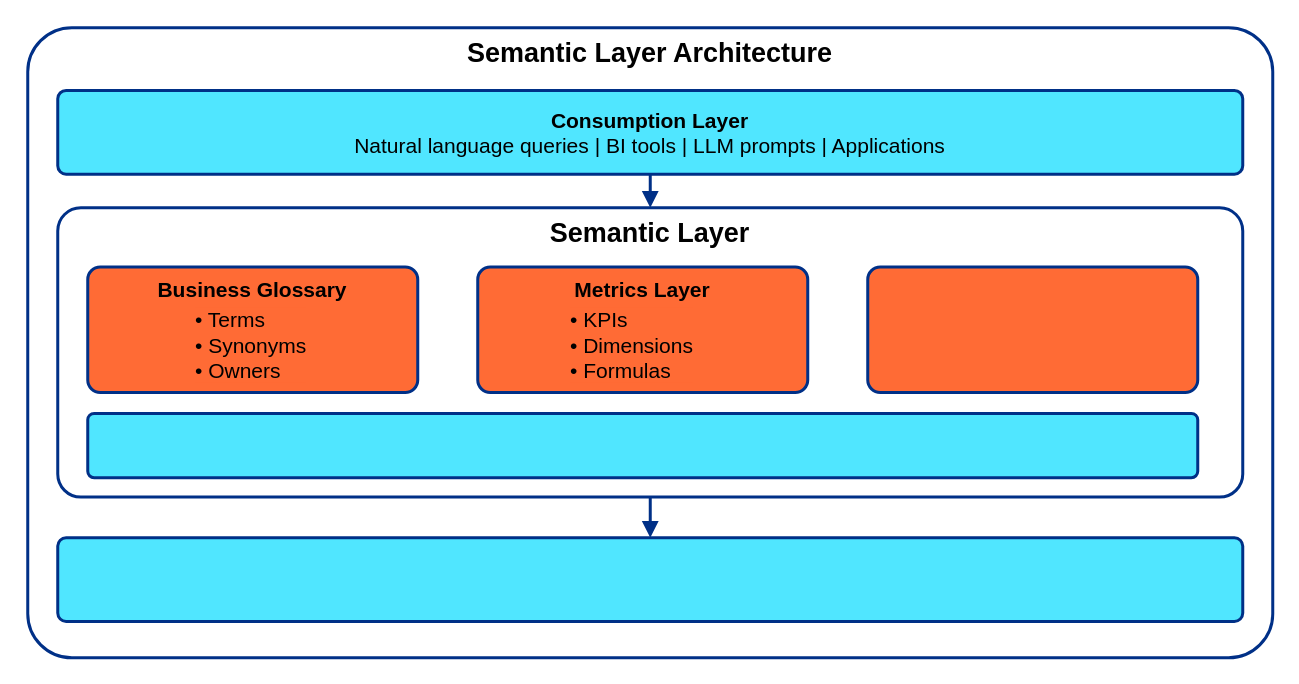
The diagram is 1299 pixels wide and 684 high, and some of its shapes have lost their labels. The shapes that lost their labels are listed below. From the top down, each one's centre as x and y in pixels, then its label:
point (1032, 329): Ontology Graph • Entities • Relations • Constraints
point (642, 444): Semantic Mappings Concept → Table | Term → Feature | Entity → Embedding
point (650, 579): Physical Layer Data lake | Feature store | Vector store | Knowledge graph DB
